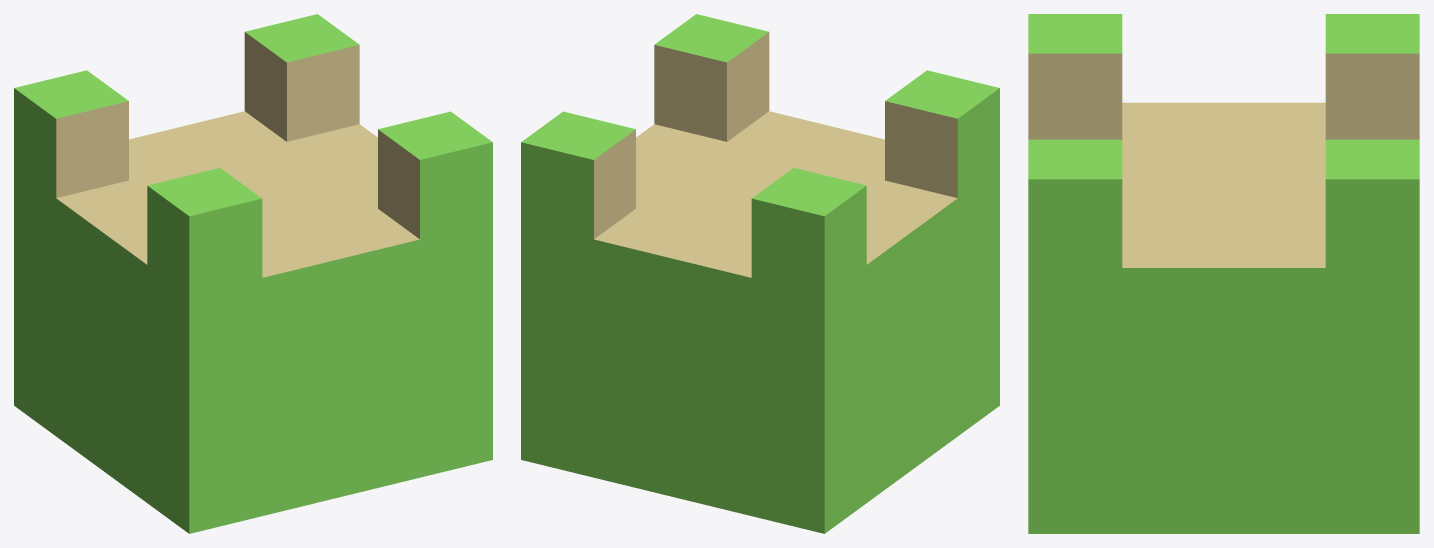
The model's file is path-cross.glb.
3 renders of one model, left to right at view 1: azimuth 30°, elevation 25°; view 2: azimuth 150°, elevation 25°; view 3: azimuth 270°, elevation 25°, orthographic. The views are drawn at different scales.
Parts seen in each view (by area): view 1: path-cross; view 2: path-cross; view 3: path-cross.
Part boxes in pixels (bbox=[...]): path-cross: bbox=[14, 14, 492, 533]; path-cross: bbox=[521, 14, 999, 533]; path-cross: bbox=[1028, 14, 1419, 533].
Bounding box in the file's own units: 2 × 2 × 2.
